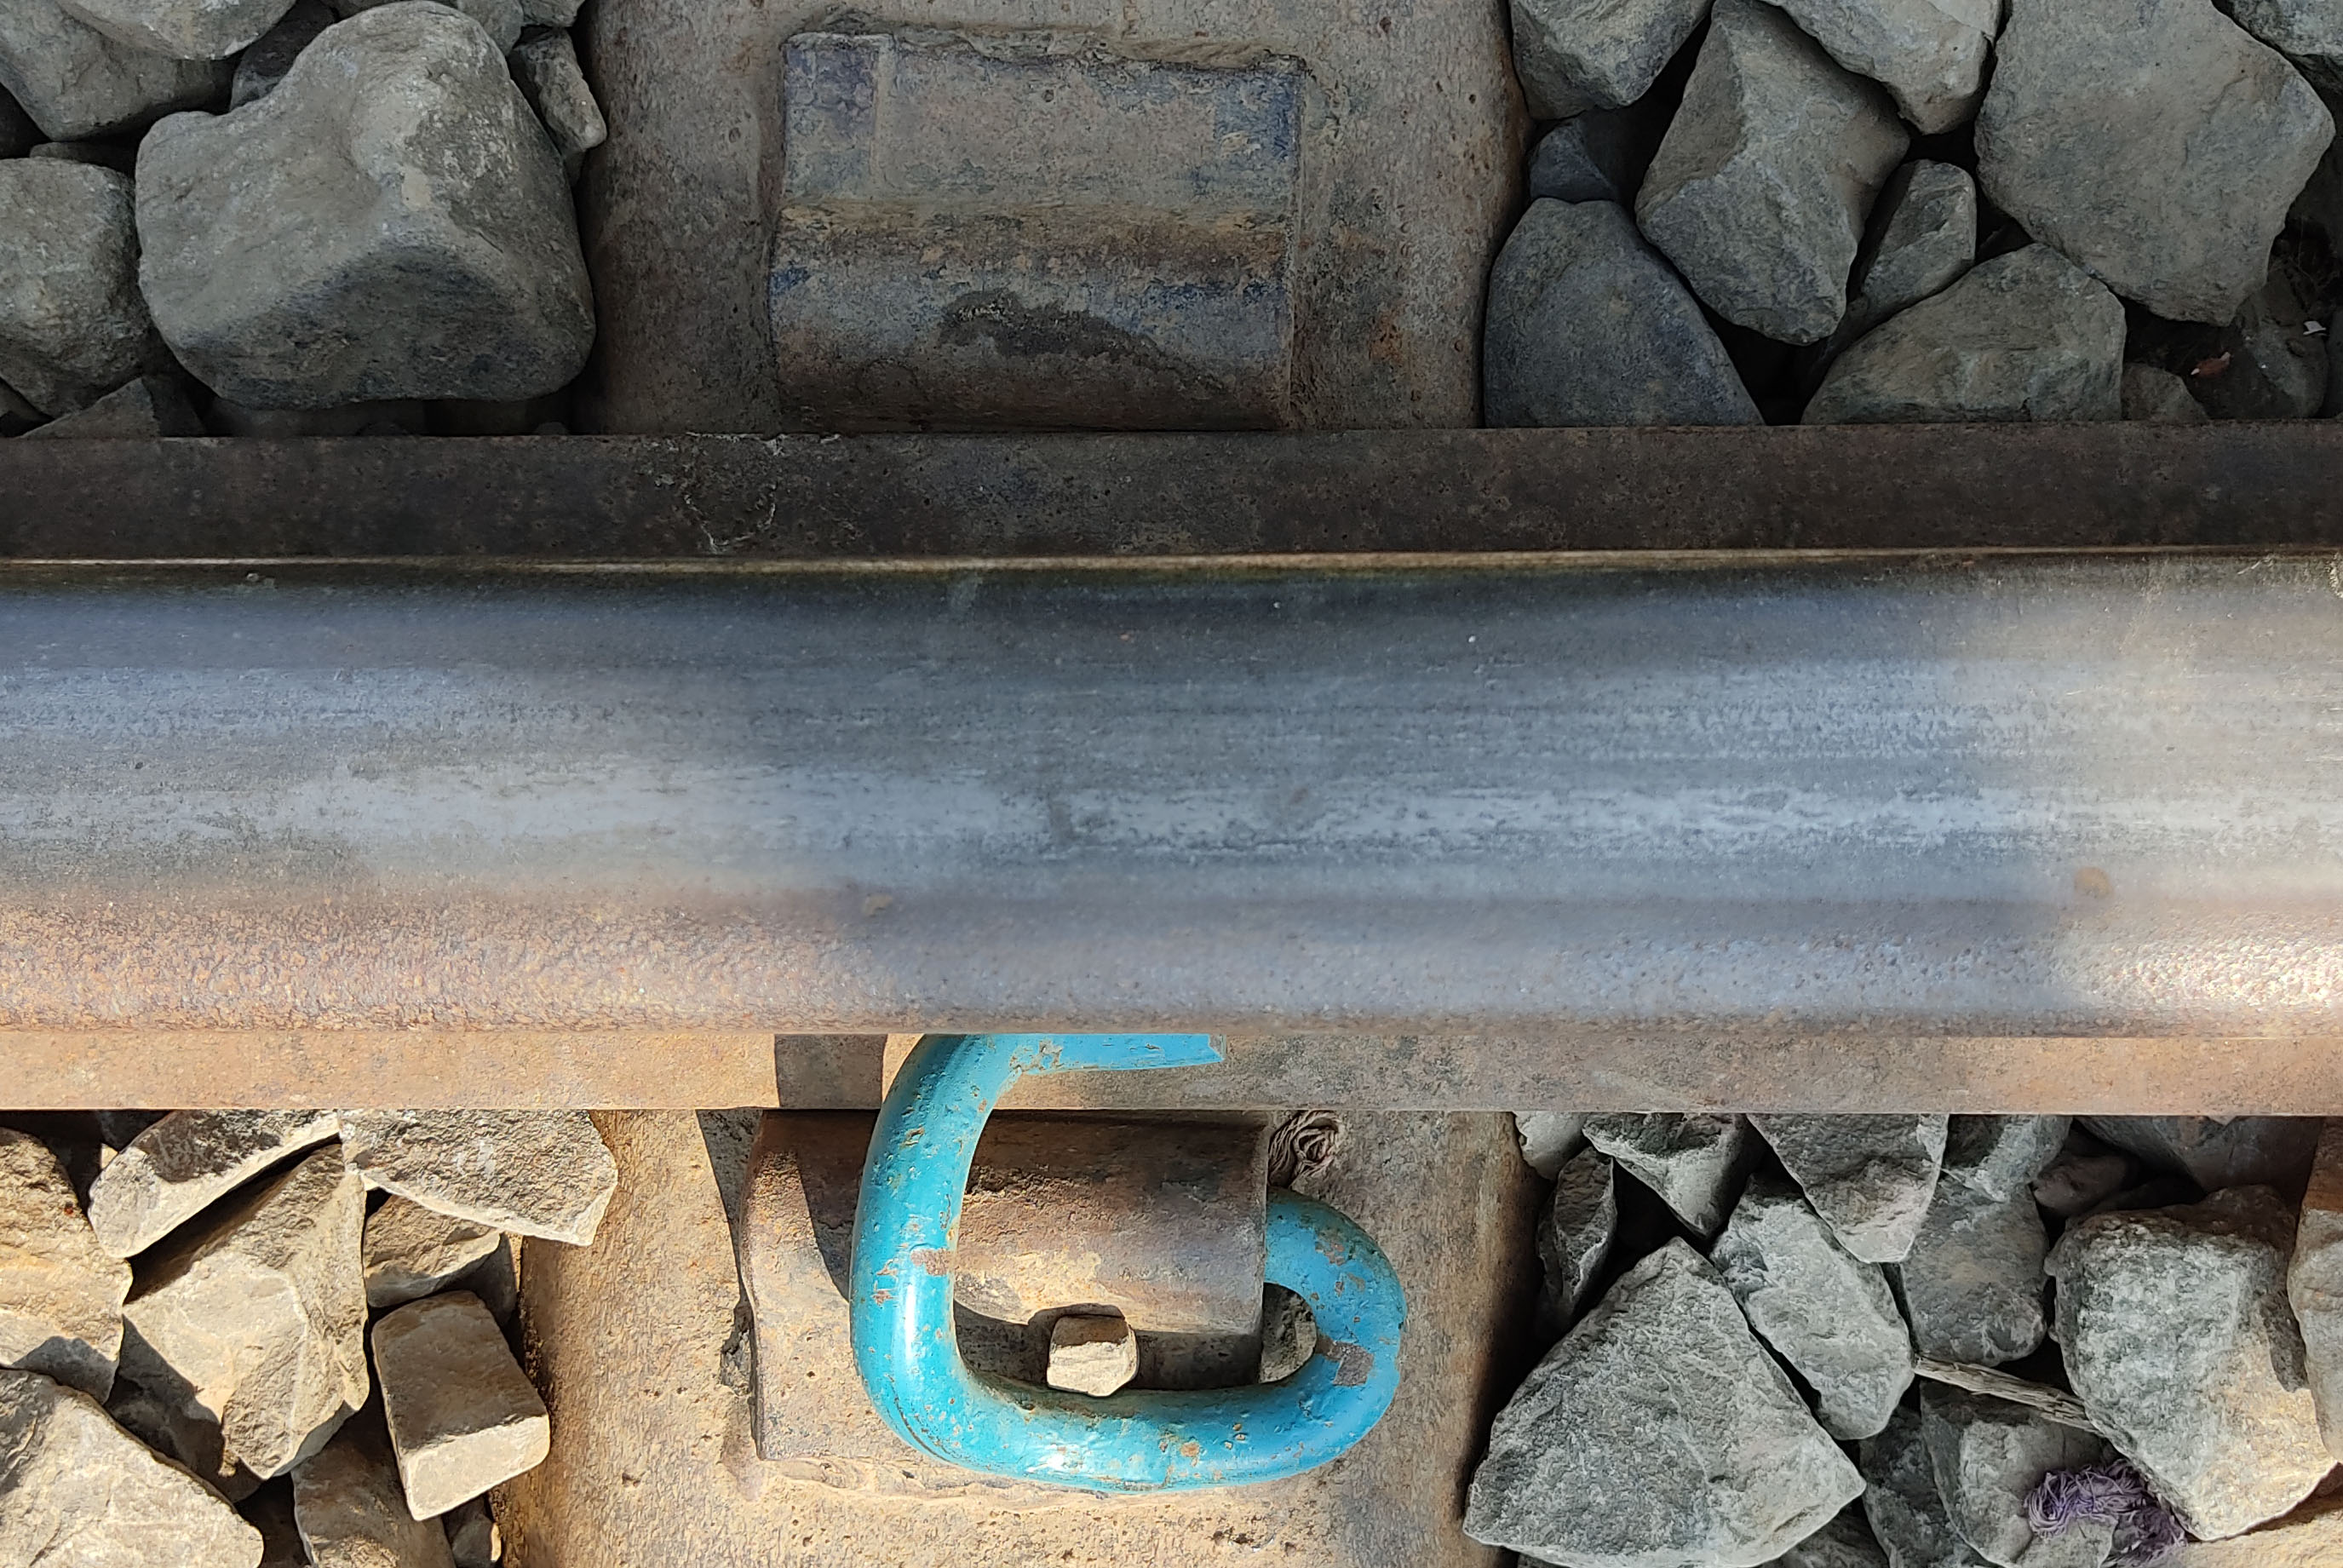error1: (794, 1038, 1381, 1528), (738, 21, 1386, 441)
